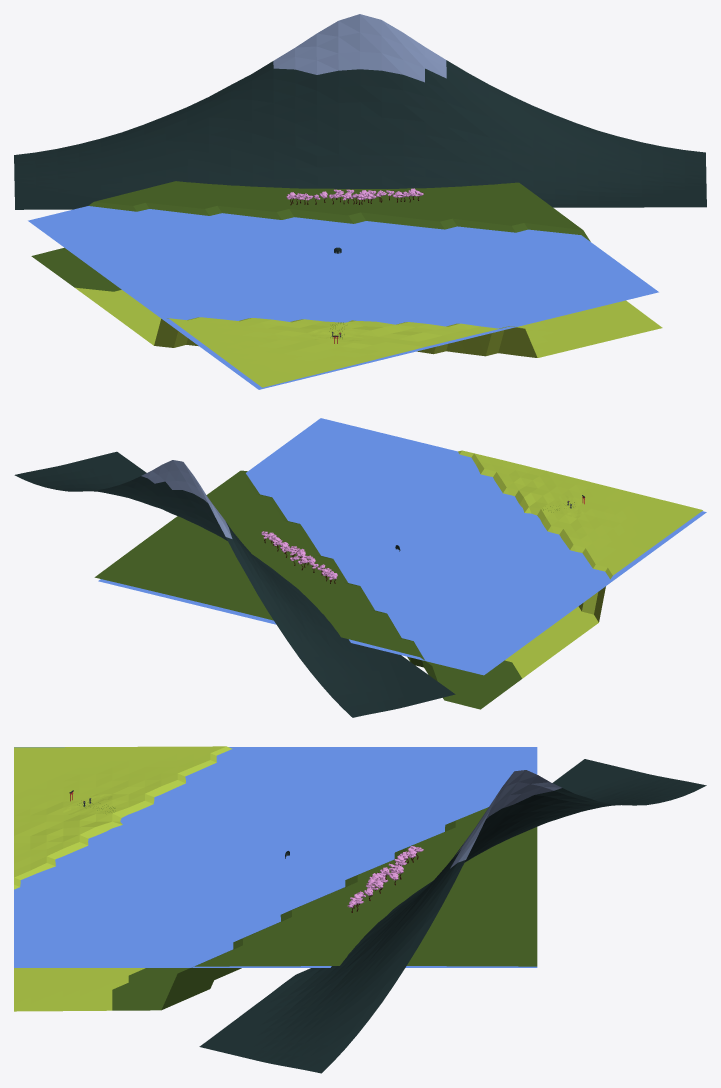
The model's file is fondo_japones2.fbx.
3 views of the same model, one above another, from view 1: azimuth 30°, elevation 25°; view 2: azimuth 150°, elevation 25°; view 3: azimuth 270°, elevation 25° (orthographic). The views are drawn at different scales.
Parts seen in each view (by area): view 1: Fondo_japones; view 2: Fondo_japones; view 3: Fondo_japones.
Boxes of the visible parts, <box> form: Fondo_japones: <box>14,14,706,389</box>; Fondo_japones: <box>14,418,706,717</box>; Fondo_japones: <box>14,746,706,1073</box>.
Bounding box in the file's own units: 18628 × 5260 × 16948.
